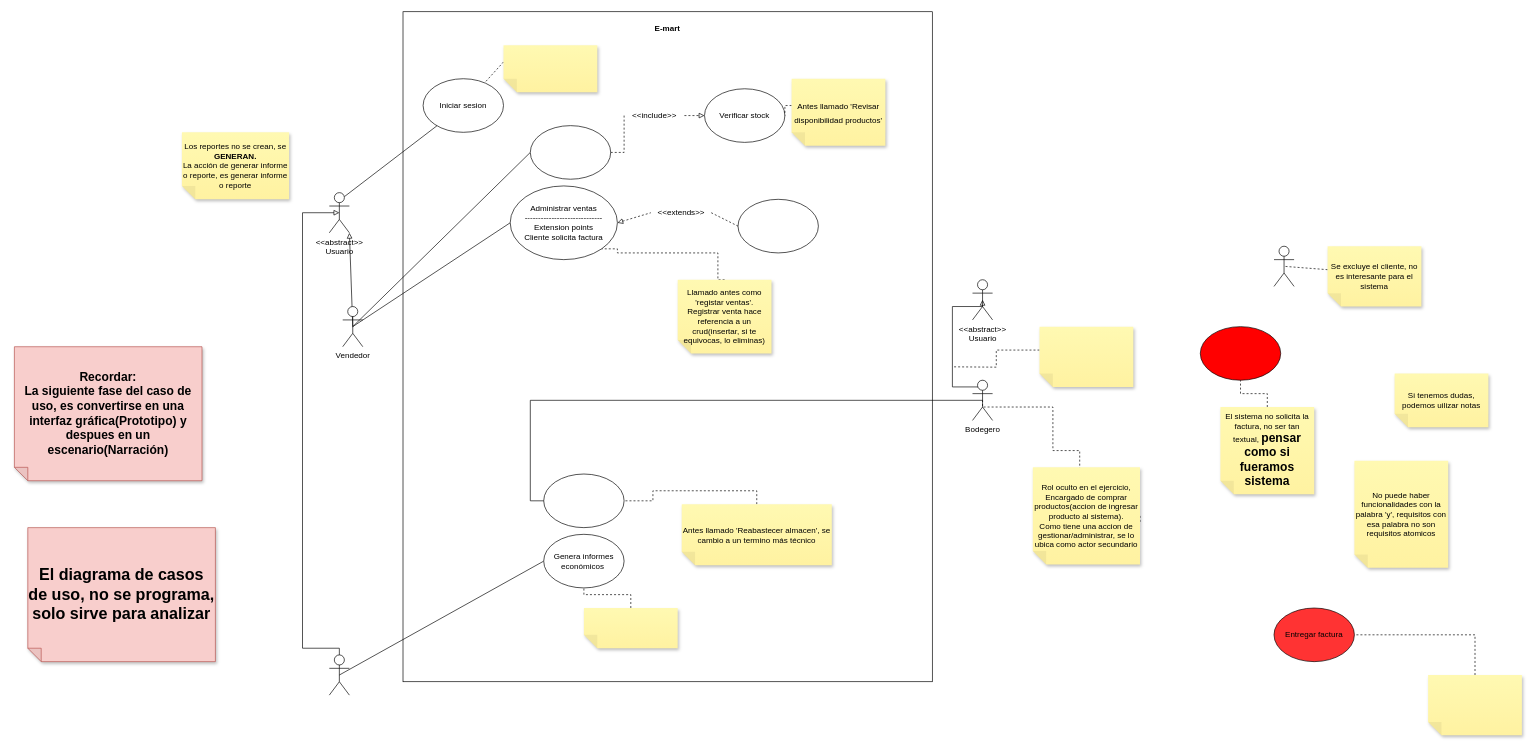
The diagram is 1538 pixels wide and 752 high, and some of its shapes have lost their labels. The centre of each missing label's shape, as x and y in pixels:
"Cliente" goes at (1283,266).
"El verbo entregar, es considerado como get, por lo tanto no se tiene en cuenta" goes at (1475,706).
"Funcionalidad añadida en clase como trabajo extra" goes at (550,69).
"Generar factura" goes at (777,226).
"Gerente" goes at (339,674).
"Gestiona productos" goes at (583,500).
"Se hace entender que el bodegero tambien es un usuario" goes at (1086,357).
"Soliicitar factura" goes at (1240,353).
"Vender productos" goes at (570,152).
"Ver reportes Generar reportes" goes at (631,629).
